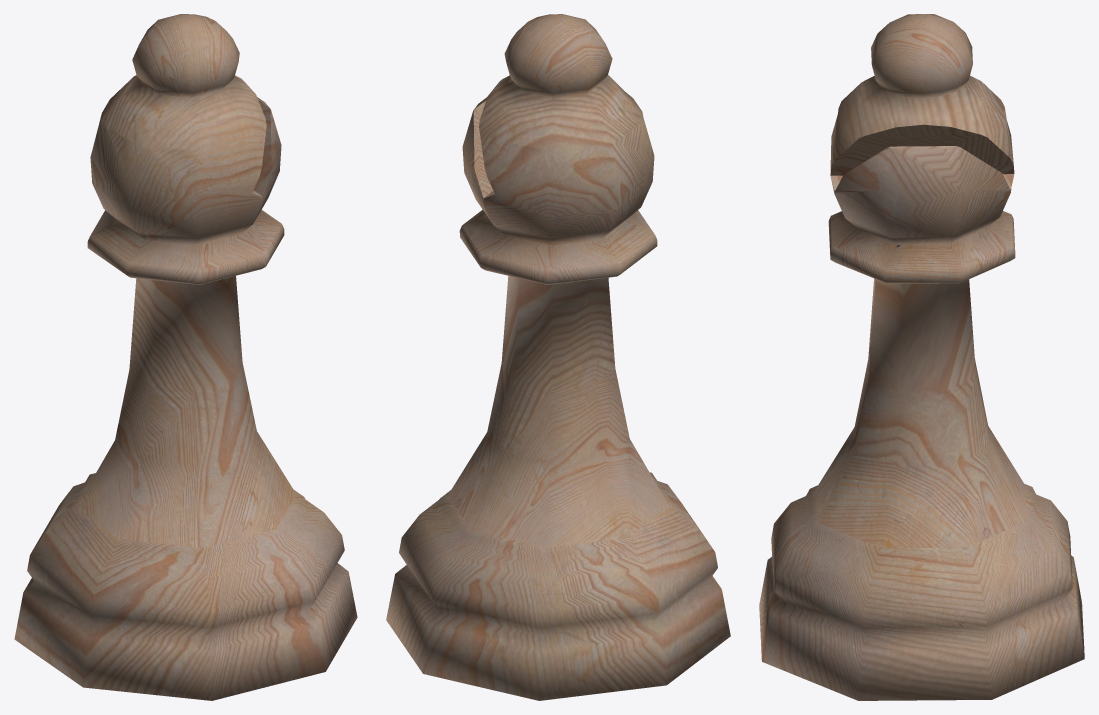
3 renders of one model, left to right at view 1: azimuth 30°, elevation 25°; view 2: azimuth 150°, elevation 25°; view 3: azimuth 270°, elevation 25°, orthographic.
Parts seen in each view (by area): view 1: WhiteBishop.001; view 2: WhiteBishop.001; view 3: WhiteBishop.001.
Boxes of the visible parts, bbox=[...] form: WhiteBishop.001: bbox=[14, 14, 357, 700]; WhiteBishop.001: bbox=[386, 14, 730, 700]; WhiteBishop.001: bbox=[759, 14, 1084, 700].
Size of the model in its own units: 0.0277 by 0.0576 by 0.0277.
1 material, 1 textured.
